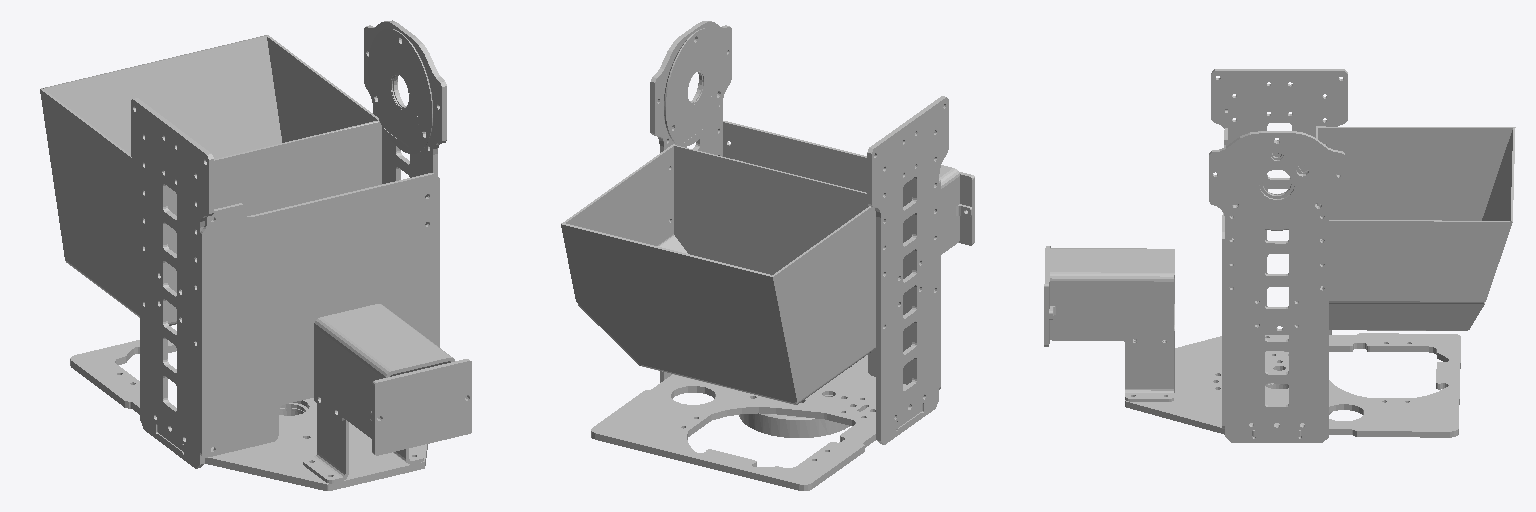
The robot description file, URDF, robot "target_robot":
<?xml version="1.0"?>
<!-- created with Phobos 1.0.1 "Capricious Choutengan" -->
  <robot name="target_robot">
    <!-- Change all "target_robot" to desired new name (2 total) -->
    <link name="base_link">
      <inertial>
        <origin xyz="0 0 0" rpy="0 0 0"/>
        <mass value="0.001"/>
        <inertia ixx="0.001" ixy="0" ixz="0" iyy="0.001" iyz="0" izz="0.001"/>
      </inertial>
      <visual name="base">
        <origin xyz="-0.00344 0.04636 0" rpy="1.5708 0 0"/>
        <geometry>
          <mesh filename="../meshes/dae/base_link.dae" scale="0.001 0.001 0.001"/>
        </geometry>
      </visual>
      <collision name="base">
        <origin xyz="0 -2e-05 -0.03168" rpy="1.5708 0 0"/>
        <geometry>
          <box size="0.5 0.28033 0.595"/>
        </geometry>
      </collision>
    </link>

    <link name="turret_pitch_link">
      <inertial>
        <origin xyz="0 0 0" rpy="0 0 0"/>
        <mass value="0.001"/>
        <inertia ixx="0.001" ixy="0" ixz="0" iyy="0.001" iyz="0" izz="0.001"/>
      </inertial>
      <visual name="turret_pitch">
        <origin xyz="0.02853 -0.05461 0.05365" rpy="0 1.5708 0"/>
        <geometry>
          <mesh filename="../meshes/dae/turret_pitch.dae" scale="0.001 0.001 0.001"/>
        </geometry>
      </visual>
      <collision name="turret_pitch">
        <origin xyz="0.06629 -0.05478 0.06775" rpy="0 1.5708 0"/>
        <geometry>
          <box size="0.10594 0.12283 0.28648"/>
        </geometry>
      </collision>
    </link>

    <link name="turret_yaw_link">
      <inertial>
        <origin xyz="0 0 0" rpy="0 0 0"/>
        <mass value="0.001"/>
        <inertia ixx="0.001" ixy="0" ixz="0" iyy="0.001" iyz="0" izz="0.001"/>
      </inertial>
      <visual name="turret_yaw">
        <origin xyz="0 0 0" rpy="1.5708 0 0"/>
        <geometry>
          <mesh filename="../meshes/dae/turret_yaw.dae" scale="0.001 0.001 0.001"/>
        </geometry>
      </visual>
      <collision name="turret_yaw">
        <origin xyz="-0.01409 0.00635 -0.01969" rpy="1.5708 0 0"/>
        <geometry>
          <box size="0.24047 0.21628 0.39979"/>
        </geometry>
      </collision>
    </link>

    <joint name="turret_pitch_joint" type="revolute">
      <origin xyz="0.05365 0.02853 0.05461" rpy="1.5708 0 -1.5708"/>
      <parent link="turret_yaw_link"/>
      <child link="turret_pitch_link"/>
      <axis xyz="0 0 1.0"/>
      <limit lower="-1.04" upper="1.04" effort="5.0" velocity="1.0"/>
    </joint>

    <joint name="turret_yaw_joint" type="revolute">
      <origin xyz="0.01434 -0.02883 0.18781" rpy="0 0 0"/>
      <parent link="base_link"/>
      <child link="turret_yaw_link"/>
      <axis xyz="0 0 1.0"/>
      <limit lower="-3.14" upper="3.14" effort="5.0" velocity="1.0"/>
    </joint>

     <gazebo>
       <plugin name="object_controller" filename="libgazebo_ros_planar_move.so">
         <commandTopic>/target_robot/cmd_vel</commandTopic>
         <odometryTopic>odom</odometryTopic>
         <odometryFrame>odom</odometryFrame>
         <odometryRate>20.0</odometryRate>
         <robotBaseFrame>base_link</robotBaseFrame>
       </plugin>
     </gazebo>
</robot>

--- Render facts (derived) ---
The picture shows the robot from 3 angles, left to right: view 1: azimuth 30°, elevation 25°; view 2: azimuth 150°, elevation 25°; view 3: azimuth 270°, elevation 25°; orthographic projection.
Model target_robot with 3 links and 2 joints (2 revolute), rooted at base_link, posed all joints at 0.
Visible links, largest first — view 1: turret_yaw_link; view 2: turret_yaw_link; view 3: turret_yaw_link.
Boxes of the visible links, bbox=[...] form: turret_yaw_link: bbox=[40, 20, 471, 490]; turret_yaw_link: bbox=[561, 21, 974, 490]; turret_yaw_link: bbox=[1044, 69, 1515, 442].
Size in the robot's own frame: 0.1432 by 0.2866 by 0.2163 metres.
1 mesh visuals loaded from 3 distinct referenced files (1 Collada DAE); not drawn: 2 (reference not matched to a file when rendering).